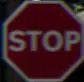Stop: (5, 5, 81, 79)
